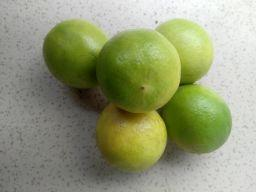lemon: (94, 26, 183, 115), (154, 82, 235, 156), (93, 101, 170, 175), (41, 16, 110, 90), (152, 16, 216, 87)
